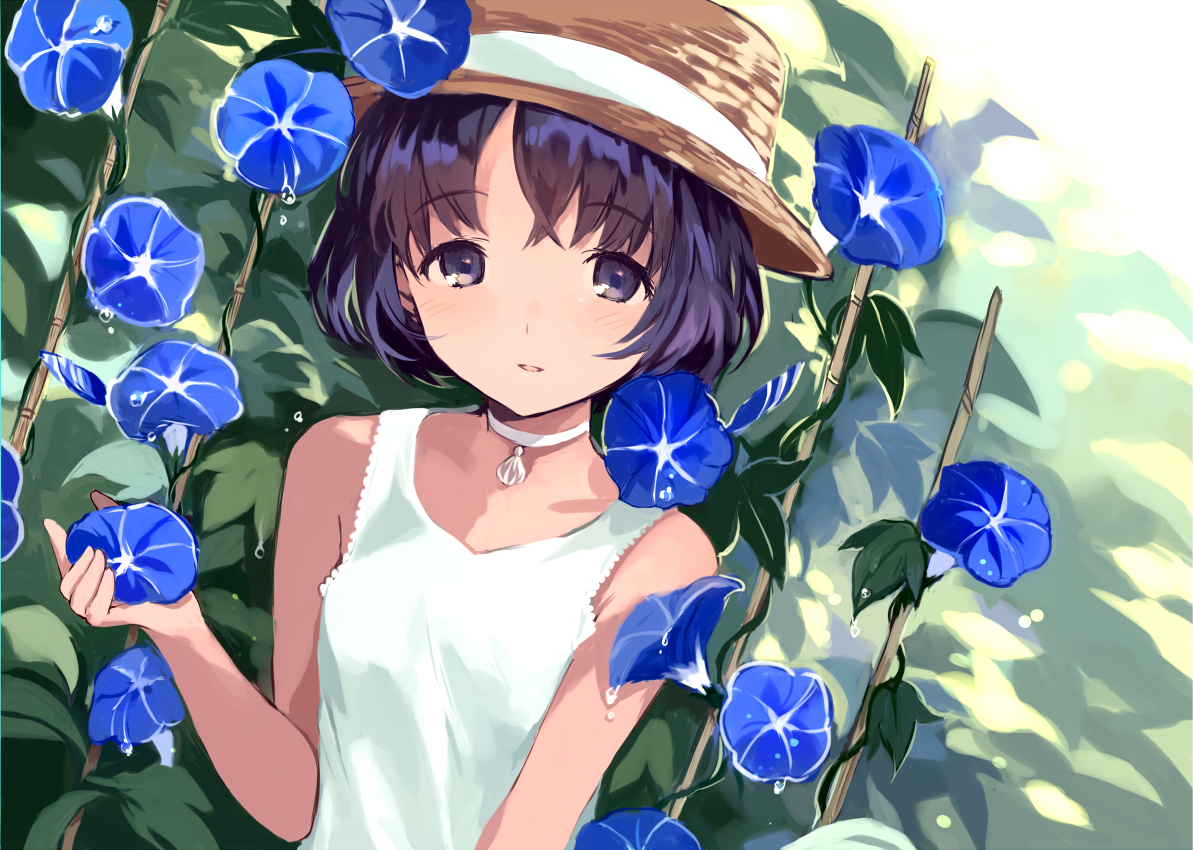纸片人正脸: (319, 66, 765, 419)
